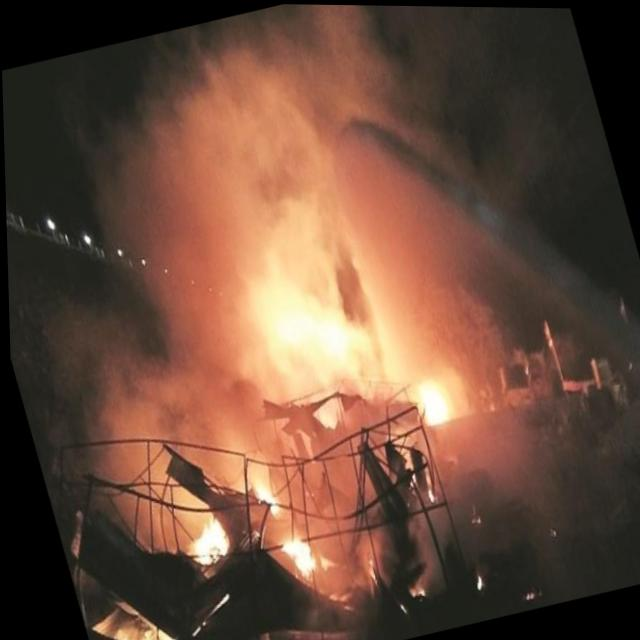fire: (225, 221, 405, 428), (176, 507, 234, 574), (271, 525, 334, 583), (405, 367, 459, 431), (244, 468, 281, 522), (140, 618, 171, 640)
